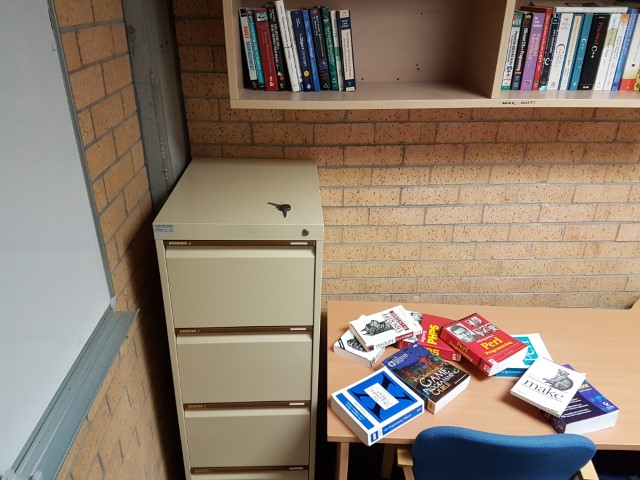key: (279, 203, 293, 219)
